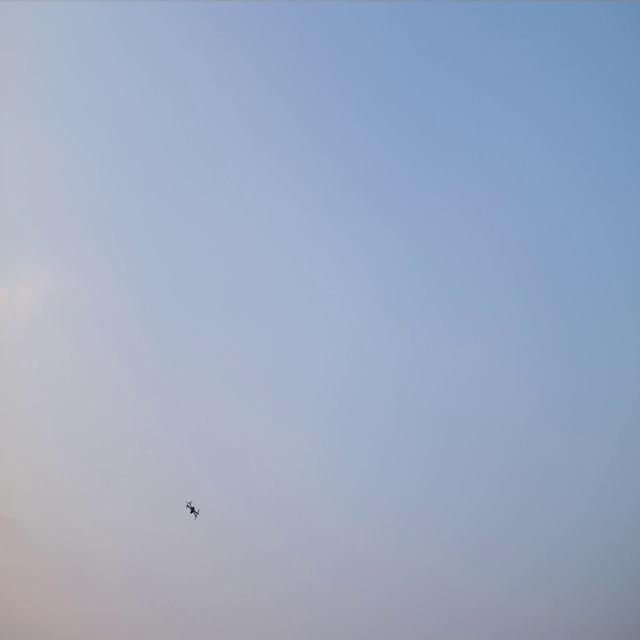UAV: (185, 500, 200, 520)
